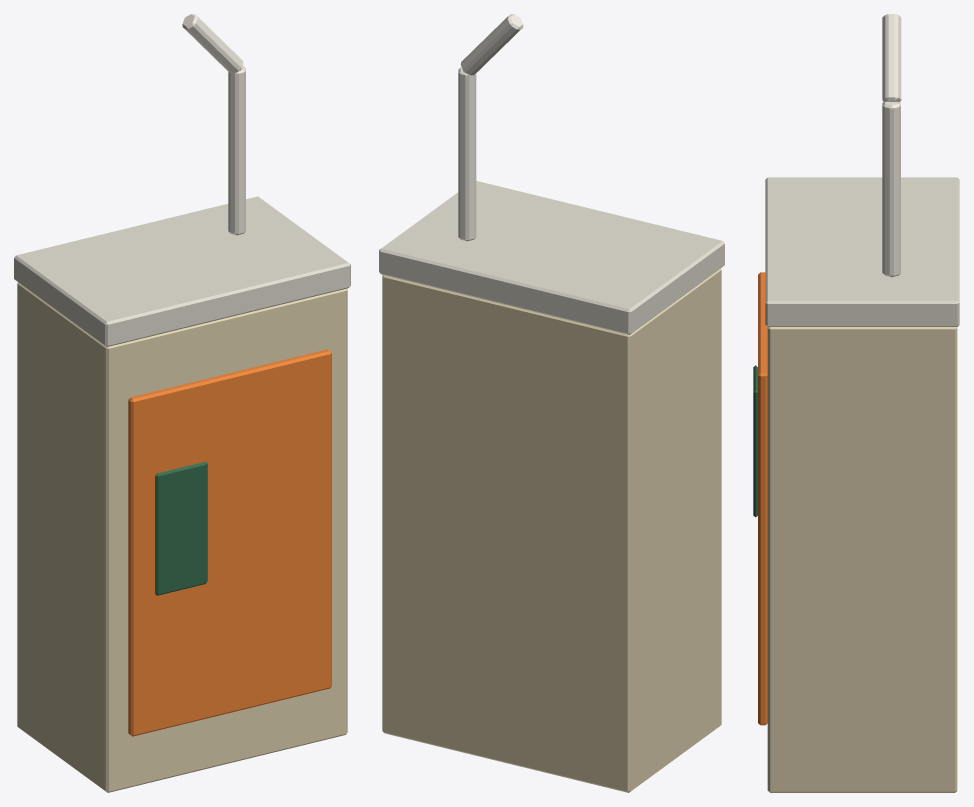
File: b16_juice_box_with_straw.glb
The picture shows the model from 3 angles, left to right: view 1: azimuth 30°, elevation 25°; view 2: azimuth 150°, elevation 25°; view 3: azimuth 270°, elevation 25°; orthographic projection. The views are drawn at different scales.
Visible parts, largest first — view 1: b16_juice_box_with_straw; view 2: b16_juice_box_with_straw; view 3: b16_juice_box_with_straw.
Part boxes in pixels (left/top/right/bottom): b16_juice_box_with_straw: left=14, top=14, right=350, bottom=792; b16_juice_box_with_straw: left=379, top=14, right=724, bottom=792; b16_juice_box_with_straw: left=753, top=14, right=959, bottom=792.
Bounding box in the file's own units: 0.061 × 0.1659 × 0.0425.
